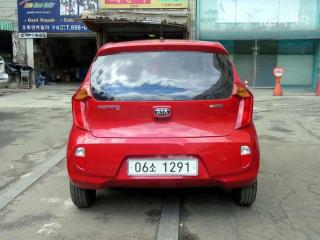0: (134, 161, 142, 173)
1: (161, 160, 169, 173), (185, 161, 192, 174)
2: (169, 161, 177, 174)
6: (143, 161, 149, 173)
9: (176, 161, 184, 173)
소: (149, 162, 158, 173)
